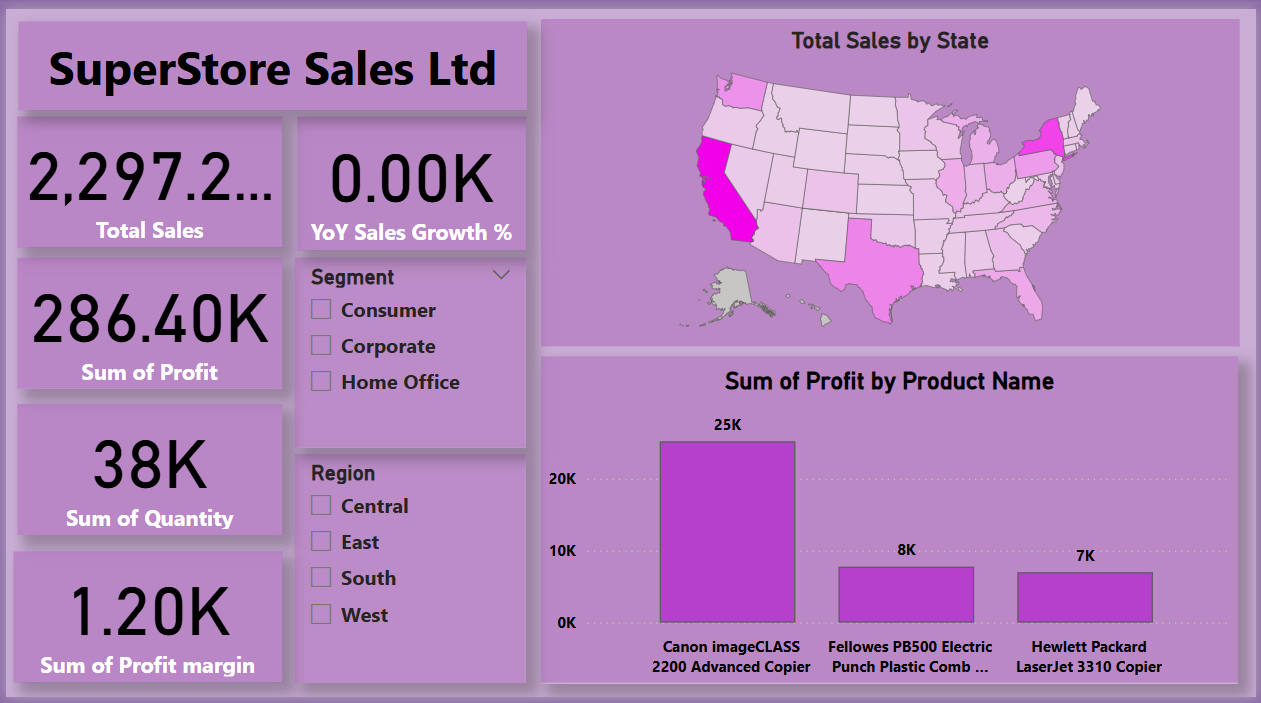

The dashboard page shown, as its layout file describes it:
{"tool":"powerbi","page":{"name":"Overall","canvas":[1000,550],"ordinal":0},"visuals":[{"type":"card","fields":{"Values":["Sample - Superstore.Total Sales"]},"box":[8.8,86.2,212.5,105],"z":0},{"type":"card","fields":{"Values":["Sum(Sample - Superstore.Profit)"]},"box":[8.8,198.8,212.5,105],"z":1000},{"type":"card","fields":{"Values":["Sum(Sample - Superstore.Quantity)"]},"box":[8.8,316.2,212.5,105],"z":2000},{"type":"card","fields":{"Values":["Sum(Sample - Superstore.Profit margin)"]},"box":[6.2,433.8,215,105],"z":3000},{"type":"slicer","fields":{"Values":["Sample - Superstore.Region"]},"box":[231.2,356.2,185,182.5],"z":4000},{"type":"slicer","fields":{"Values":["Sample - Superstore.Segment"]},"box":[231.2,198.8,185,152.5],"z":5000},{"type":"card","fields":{"Values":["Sample - Superstore.YoY Sales Growth %"]},"box":[232.5,86.2,183.8,106.2],"z":6000},{"type":"shape","box":[427.5,277.5,558.8,261.2],"z":7000},{"type":"columnChart","fields":{"Y":["Sum(Sample - Superstore.Profit)"],"Category":["Sample - Superstore.Product Name"]},"box":[428,278,558,262],"z":8000},{"type":"shape","box":[428.2,8.2,559.1,261.8],"z":9000},{"type":"shape","box":[10,10,406.9,70.8],"z":10000},{"type":"shapeMap","fields":{"Value":["Sample - Superstore.Total Sales"],"Category":["Sample - Superstore.State"]},"box":[428,8,559,262],"z":11000}]}

Visuals, with their boxes in screenshot pixels (x1, y1, x2, y2), scaled from the page's 1000x550 canvas onto the 1261x703 screenshot:
card - Sample - Superstore.Total Sales: detection(11, 110, 279, 244)
card - Sum(Sample - Superstore.Profit): detection(11, 254, 279, 388)
card - Sum(Sample - Superstore.Quantity): detection(11, 404, 279, 538)
card - Sum(Sample - Superstore.Profit margin): detection(8, 554, 279, 689)
slicer - Sample - Superstore.Region: detection(292, 455, 525, 689)
slicer - Sample - Superstore.Segment: detection(292, 254, 525, 449)
card - Sample - Superstore.YoY Sales Growth %: detection(293, 110, 525, 246)
shape: detection(539, 355, 1244, 689)
columnChart - Sum(Sample - Superstore.Profit) x Sample - Superstore.Product Name: detection(540, 355, 1243, 690)
shape: detection(540, 10, 1245, 345)
shape: detection(13, 13, 526, 103)
shapeMap - Sample - Superstore.Total Sales x Sample - Superstore.State: detection(540, 10, 1245, 345)
